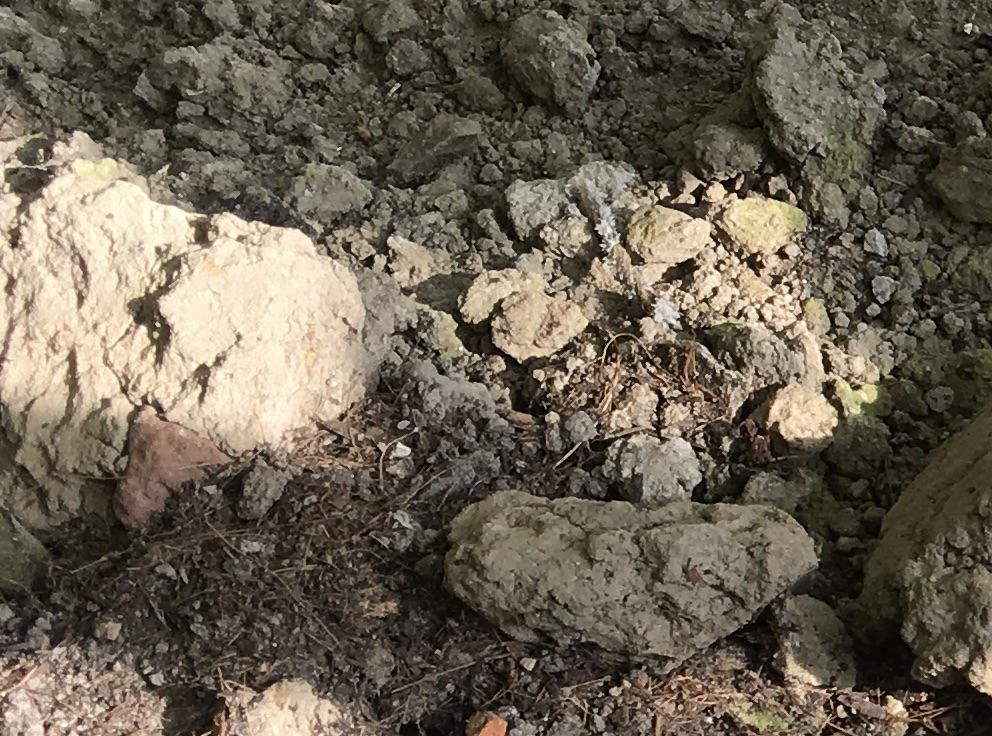block: (1, 178, 388, 527), (441, 489, 823, 669)
